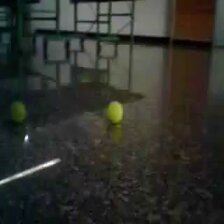tennis: (105, 100, 124, 126), (10, 102, 27, 122)
